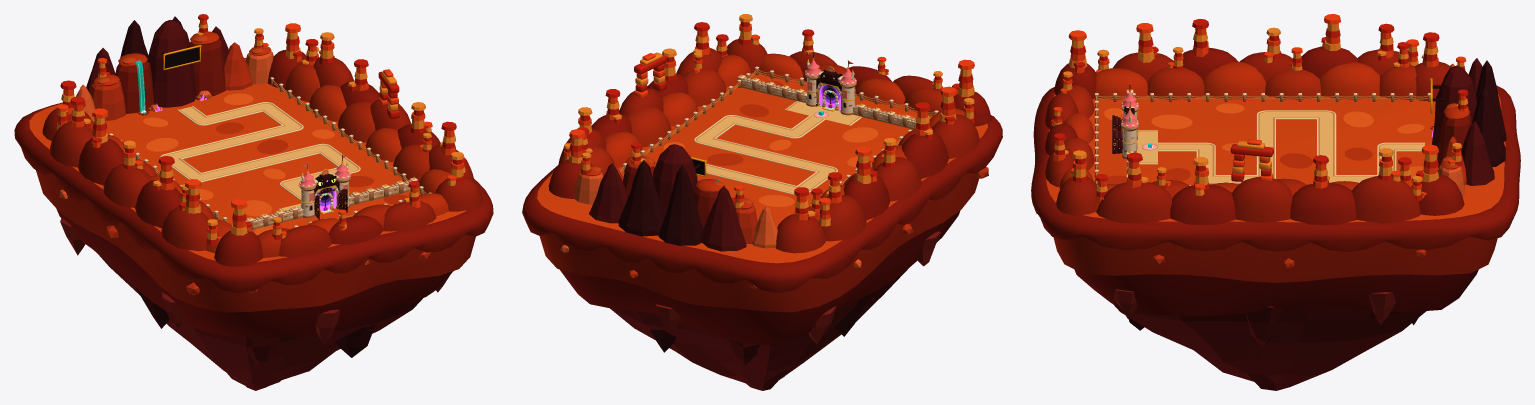
File: mars_base.fbx
The picture shows the model from 3 angles, left to right: view 1: azimuth 30°, elevation 25°; view 2: azimuth 150°, elevation 25°; view 3: azimuth 270°, elevation 25°; orthographic projection. The views are drawn at different scales.
Parts seen in each view (by area): view 1: Base_Cliff, Base_Backdrop, Base_Ground, Base_Trees, Base_Road, Base_Gate, Base_Dressing, Base_GateTrim; view 2: Base_Cliff, Base_Backdrop, Base_Ground, Base_Trees, Base_Road, Base_Gate, Base_Dressing, Base_GateTrim; view 3: Base_Cliff, Base_Backdrop, Base_Ground, Base_Trees, Base_Road, Base_Dressing, Base_Gate, Base_GateTrim.
Part boxes in pixels (left/top/right/bottom): Base_Cliff: left=14, top=58, right=493, bottom=390; Base_Backdrop: left=42, top=16, right=482, bottom=266; Base_Ground: left=29, top=58, right=466, bottom=262; Base_Trees: left=57, top=14, right=466, bottom=245; Base_Road: left=160, top=102, right=360, bottom=211; Base_Gate: left=232, top=154, right=417, bottom=229; Base_Dressing: left=93, top=77, right=431, bottom=227; Base_GateTrim: left=299, top=155, right=350, bottom=202; Base_Cliff: left=522, top=115, right=1002, bottom=390; Base_Backdrop: left=548, top=39, right=991, bottom=253; Base_Ground: left=537, top=73, right=987, bottom=263; Base_Trees: left=563, top=14, right=974, bottom=226; Base_Road: left=694, top=101, right=861, bottom=194; Base_Gate: left=738, top=51, right=916, bottom=129; Base_Dressing: left=620, top=66, right=938, bottom=226; Base_GateTrim: left=805, top=52, right=856, bottom=117; Base_Cliff: left=1031, top=85, right=1520, bottom=390; Base_Backdrop: left=1044, top=46, right=1506, bottom=225; Base_Ground: left=1046, top=93, right=1505, bottom=222; Base_Trees: left=1051, top=14, right=1468, bottom=203; Base_Road: left=1137, top=110, right=1424, bottom=183; Base_Dressing: left=1094, top=93, right=1430, bottom=185; Base_Gate: left=1112, top=83, right=1157, bottom=178; Base_GateTrim: left=1121, top=92, right=1156, bottom=149.
Bounding box in the file's own units: 188 × 179 × 244.
